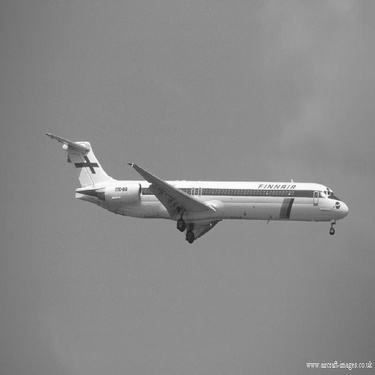airplane: (29, 105, 351, 251)
